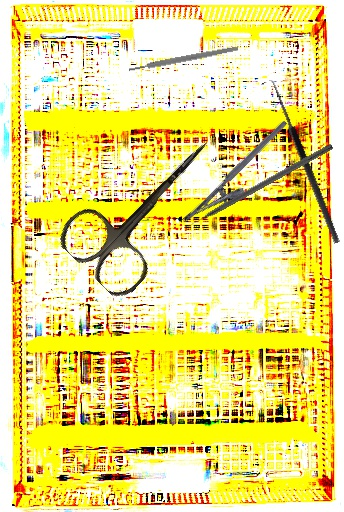Hook Surgical: (260, 77, 342, 248), (182, 141, 334, 231)
Iris Scissors: (51, 111, 243, 304)
Needle Holder: (180, 119, 301, 238)
Scalpel Handle: (128, 45, 239, 73)
